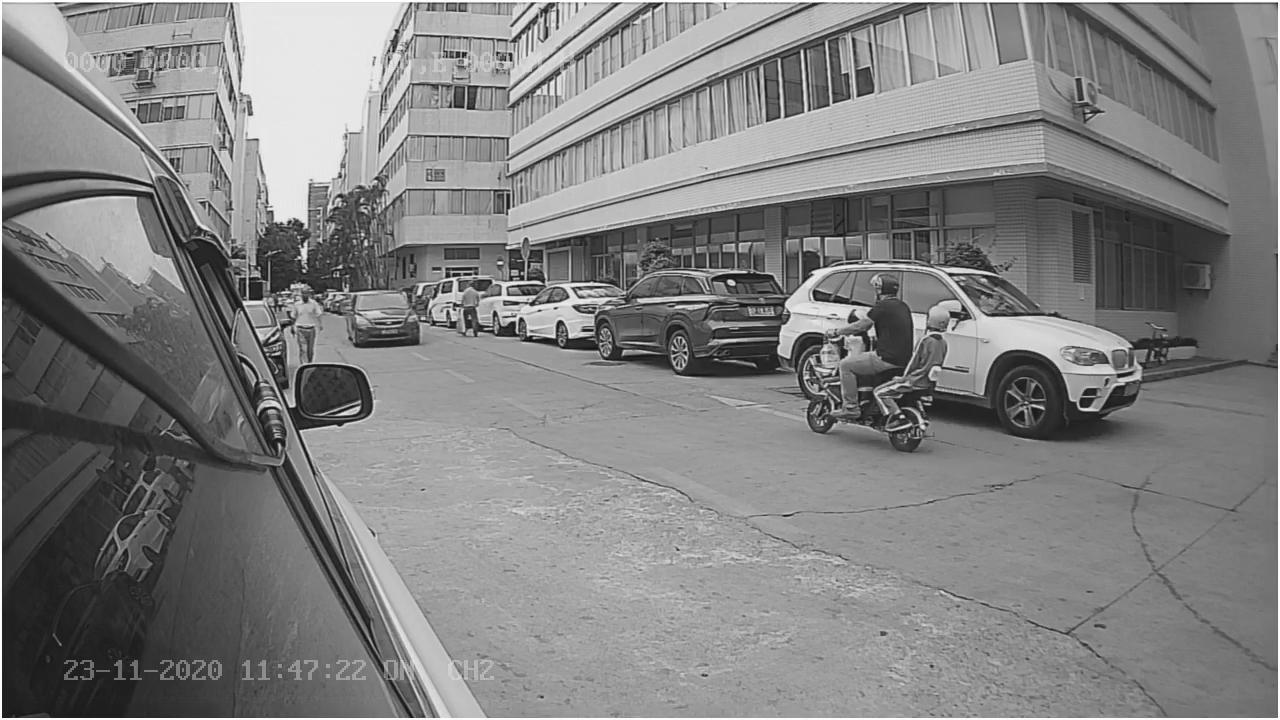person: (827, 270, 914, 352)
